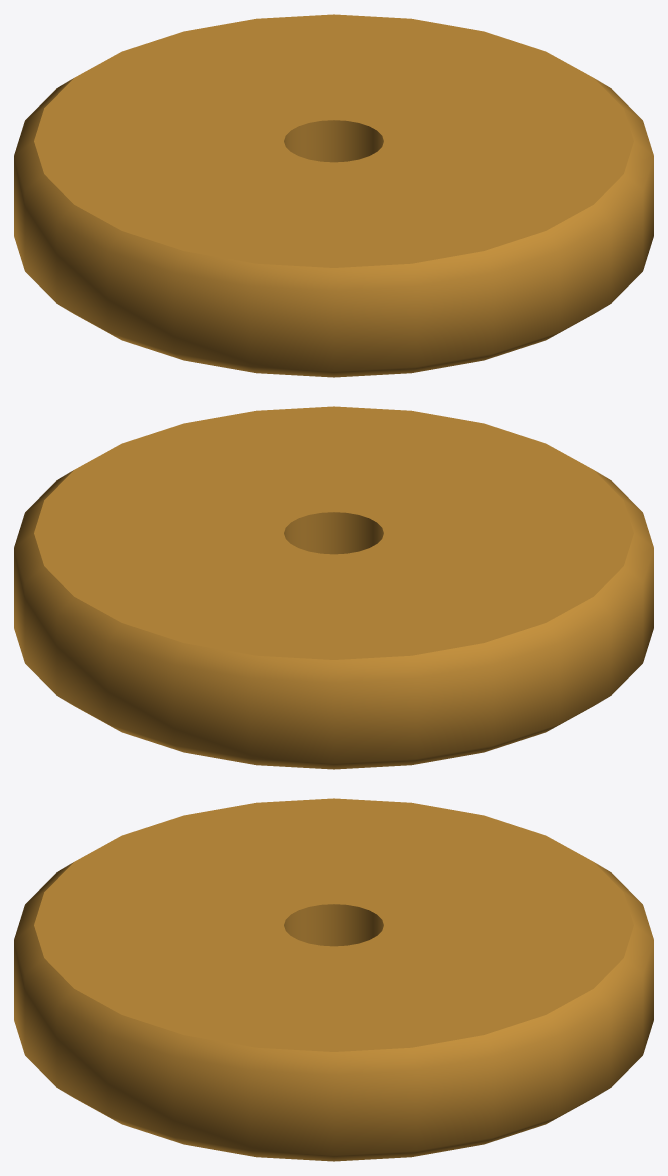
Rendered from ring5.gltf.
3 renders of one model, top to bottom at view 1: azimuth 30°, elevation 25°; view 2: azimuth 150°, elevation 25°; view 3: azimuth 270°, elevation 25°, orthographic.
Visible parts, largest first — view 1: 5; view 2: 5; view 3: 5.
Part boxes in pixels (left/top/right/bottom): 5: left=14, top=14, right=653, bottom=377; 5: left=14, top=406, right=653, bottom=769; 5: left=14, top=798, right=653, bottom=1161.
Size of the model in its own units: 0.8128 by 0.1534 by 0.8128.
